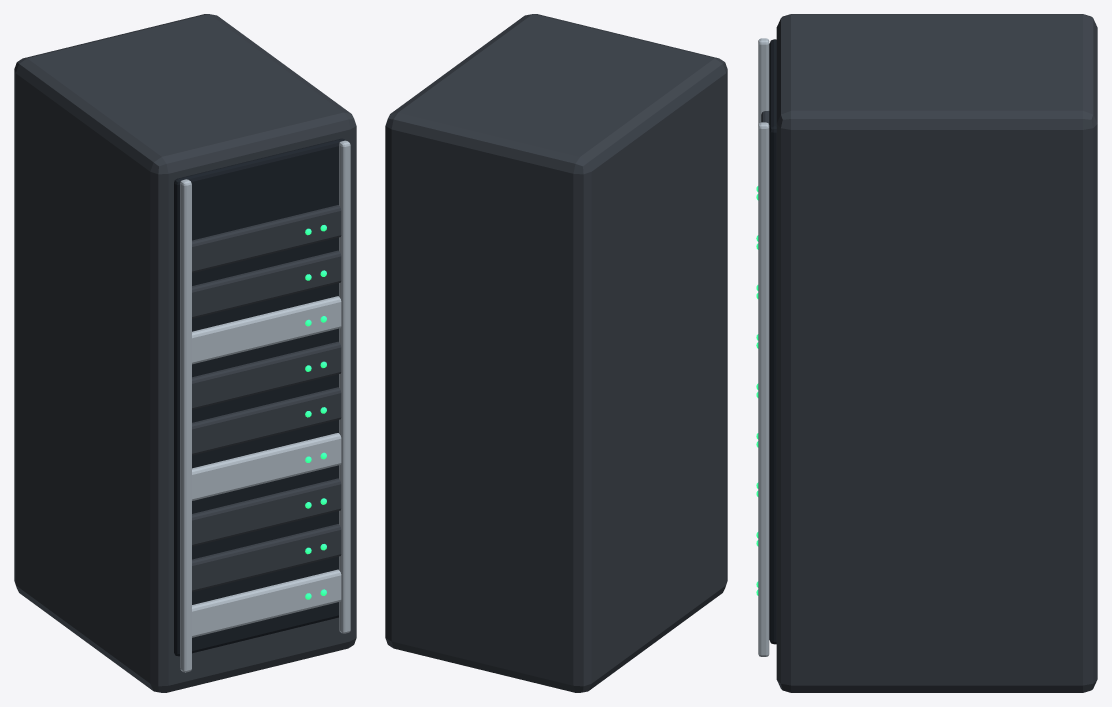
The model's file is server-rack.glb.
3 views of the same model, side by side, from view 1: azimuth 30°, elevation 25°; view 2: azimuth 150°, elevation 25°; view 3: azimuth 270°, elevation 25° (orthographic). The views are drawn at different scales.
Parts seen in each view (by area): view 1: rack · Graphite metal, rack · Soft black, rack · Brushed aluminum, rack · Status green; view 2: rack · Graphite metal; view 3: rack · Graphite metal, rack · Brushed aluminum, rack · Soft black.
Boxes of the visible parts, x1=… form: rack · Graphite metal: x1=14, y1=14, x2=356, y2=692; rack · Soft black: x1=174, y1=138, x2=345, y2=656; rack · Brushed aluminum: x1=180, y1=140, x2=350, y2=672; rack · Status green: x1=305, y1=225, x2=326, y2=599; rack · Graphite metal: x1=385, y1=14, x2=727, y2=692; rack · Graphite metal: x1=761, y1=14, x2=1097, y2=692; rack · Brushed aluminum: x1=758, y1=38, x2=769, y2=656; rack · Soft black: x1=769, y1=39, x2=776, y2=644.
Bounding box in the file's own units: 0.8 × 2 × 1.06.
